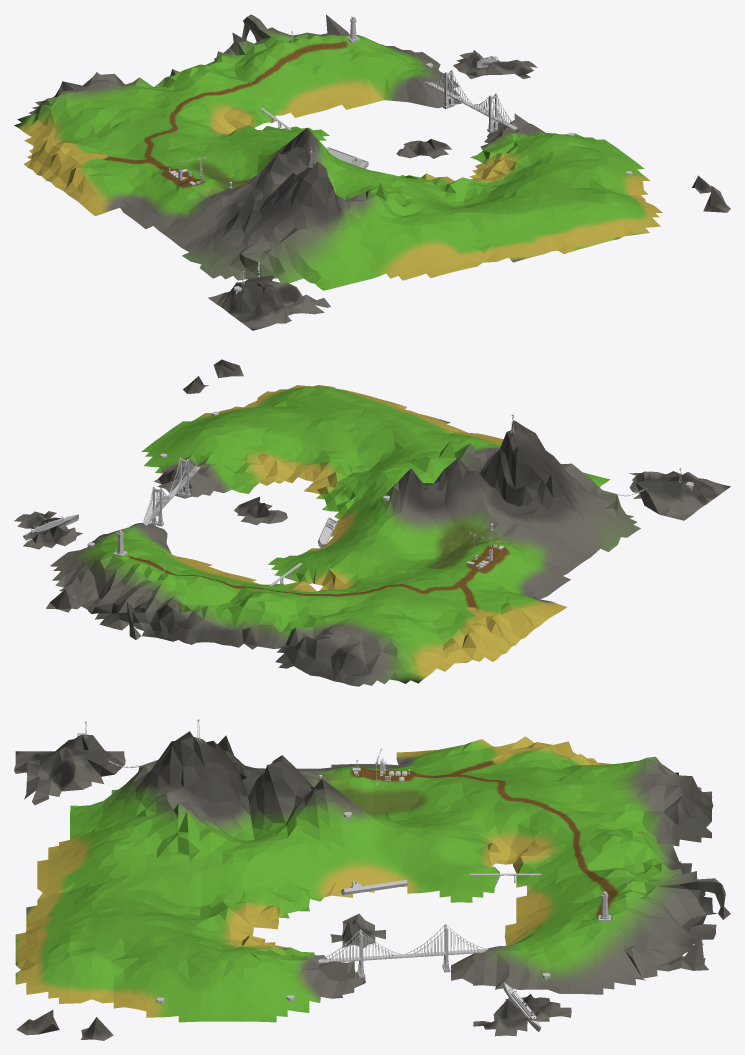
The model's file is modelsFlyGame.obj.
3 renders of one model, top to bottom at view 1: azimuth 30°, elevation 25°; view 2: azimuth 150°, elevation 25°; view 3: azimuth 270°, elevation 25°, orthographic. The views are drawn at different scales.
Visible parts, largest first — view 1: Plane.006, Cube.002_Cube.024; view 2: Plane.006, Cube.002_Cube.024; view 3: Plane.006, Cube.002_Cube.024.
Part boxes in pixels (x1,y1,x2,y2): Plane.006: [14, 14, 730, 330]; Cube.002_Cube.024: [424, 70, 517, 132]; Plane.006: [14, 359, 730, 686]; Cube.002_Cube.024: [142, 457, 200, 526]; Plane.006: [14, 731, 730, 1040]; Cube.002_Cube.024: [318, 924, 488, 977].
Size of the model in its own units: 314 by 62.37 by 328.
Materials: 2 (1 with a texture image).
